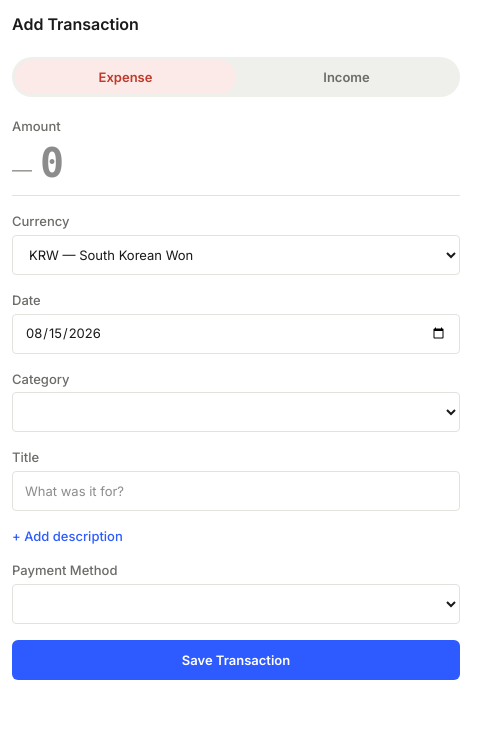
Scenario: Add Transaction page › rejects an empty amount without saving
Type "Lunch" into the field labelled "Title" at (236, 491), box [12, 471, 460, 511]
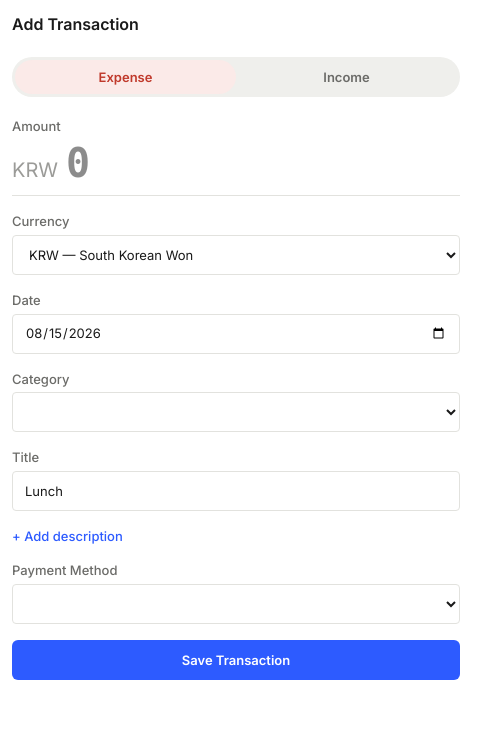
Click the button "Save Transaction" at (236, 660), box [12, 640, 460, 680]
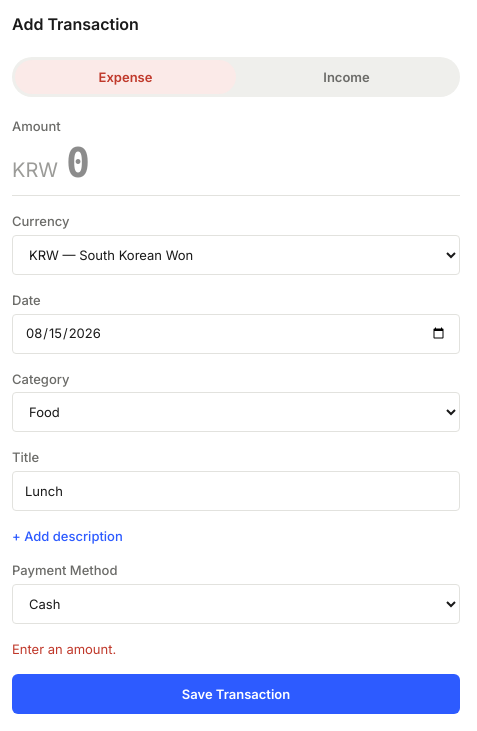
Now the text "Enter an amount." is shown, box [12, 641, 116, 657]
